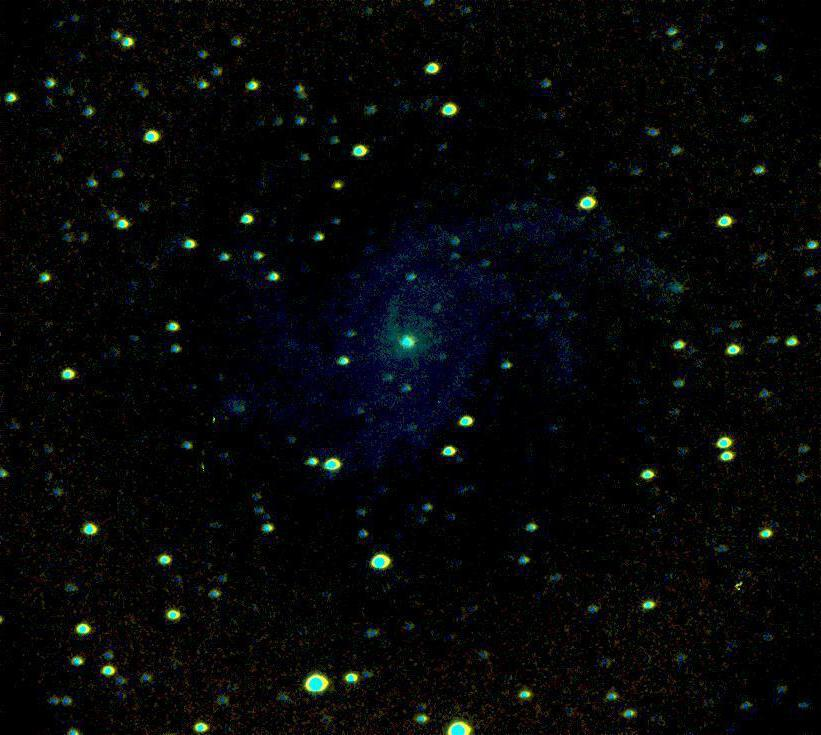star: (322, 172, 352, 202)
